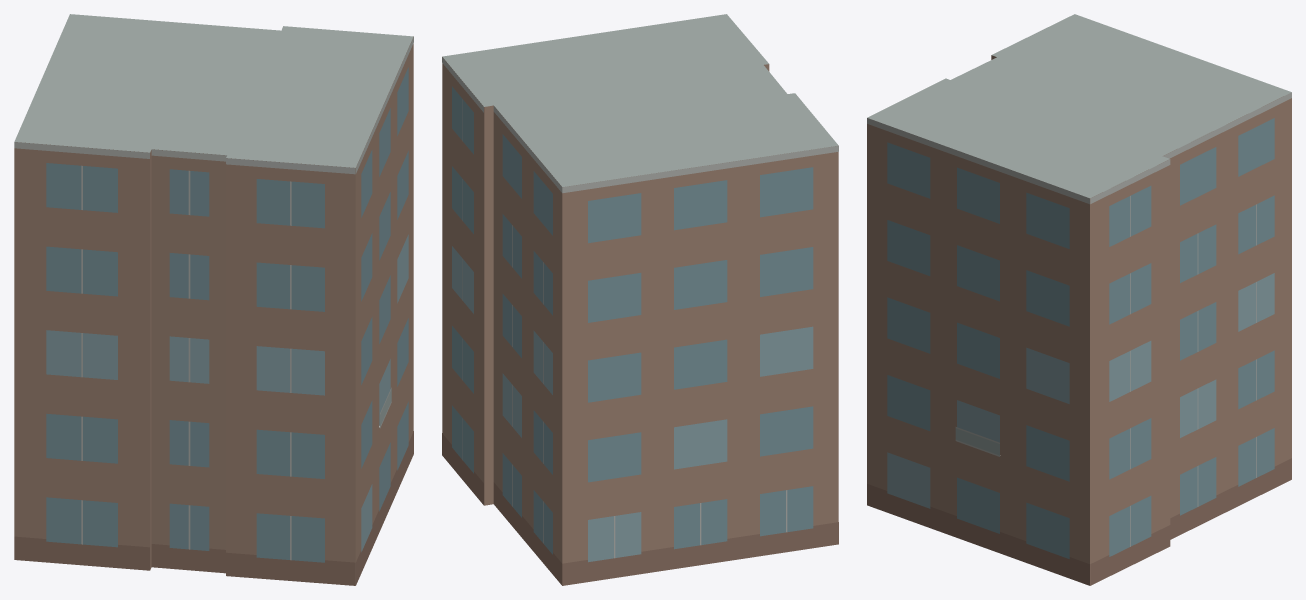
File: survey-upis-32690210.glb
3 views of the same model, side by side, from view 1: azimuth 30°, elevation 25°; view 2: azimuth 150°, elevation 25°; view 3: azimuth 270°, elevation 25° (orthographic). The views are drawn at different scales.
Parts seen in each view (by area): view 1: survey-upis-32690210.tmp; view 2: survey-upis-32690210.tmp; view 3: survey-upis-32690210.tmp.
Part boxes in pixels (box(x1,y1,x2,y2)): survey-upis-32690210.tmp: box(14, 14, 413, 585); survey-upis-32690210.tmp: box(442, 14, 838, 585); survey-upis-32690210.tmp: box(867, 14, 1291, 585).
Size of the model in its own units: 16.23 by 15.9 by 15.8.
